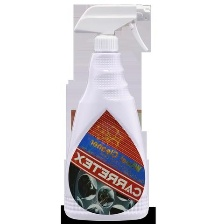cleaning_solution: (61, 2, 153, 222)
